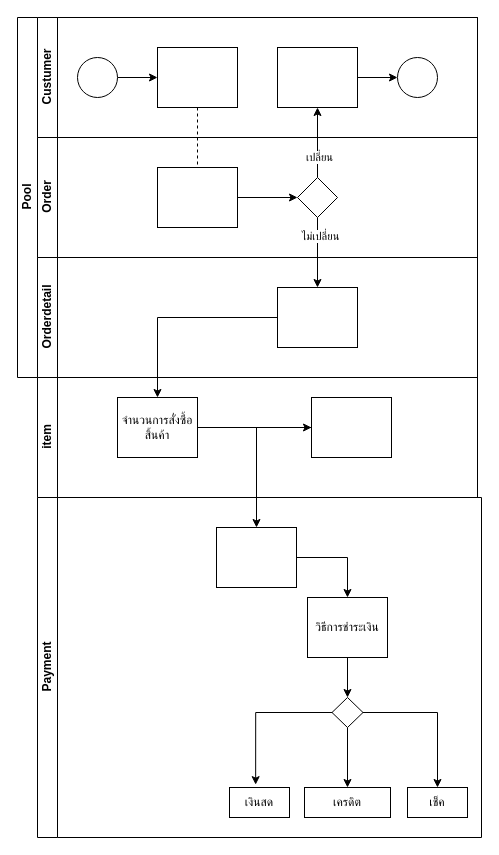
Image size: 499x855. Some labels were removed from this diagram. The shapes that lost their labels are listed below. From the top down, each one's centre as x and y in pixels, then its label:
the point at 197,77: เลือกซื้อสินค้า
the point at 317,77: เลือกรายการสินค้าใหม่
the point at 197,197: เพิ่มสินค้าลงในตะกร้า
the point at 317,317: รายละเอียดสินค้า
the point at 351,427: ตรวจสอบสินค้า
the point at 256,557: การยืนยันการสั่งศื้อ
